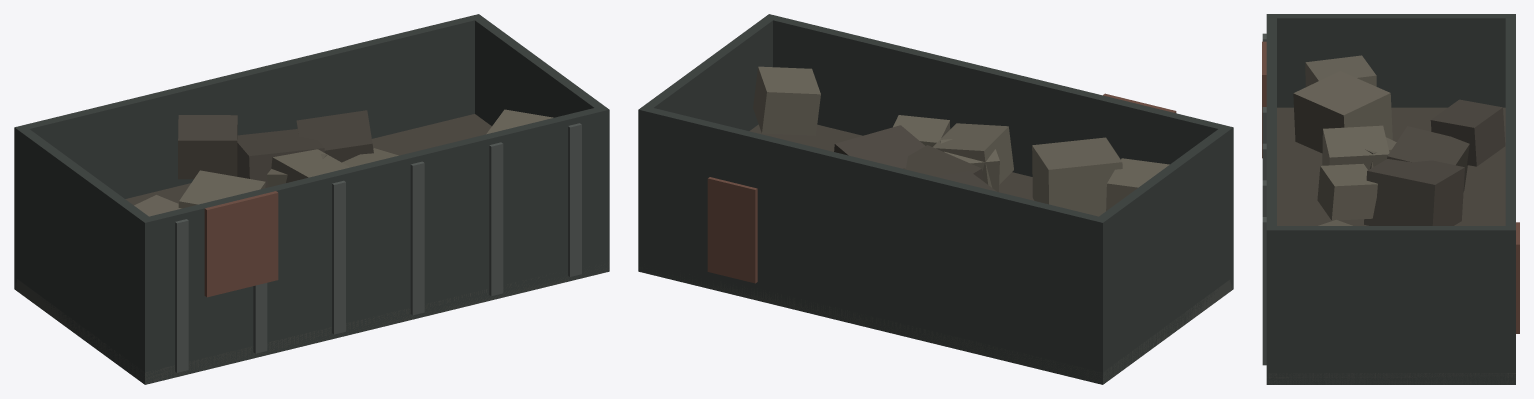
File: ancient_open_container_1.obj
3 views of the same model, side by side, from view 1: azimuth 30°, elevation 25°; view 2: azimuth 150°, elevation 25°; view 3: azimuth 270°, elevation 25° (orthographic). The views are drawn at different scales.
Parts seen in each view (by area): view 1: ancient_open_container_1; view 2: ancient_open_container_1; view 3: ancient_open_container_1.
Boxes of the visible parts, left/top/right/bottom form: ancient_open_container_1: left=14, top=14, right=609, bottom=384; ancient_open_container_1: left=638, top=14, right=1233, bottom=384; ancient_open_container_1: left=1262, top=14, right=1519, bottom=384.
Size of the model in its own units: 3.9 by 1.3 by 1.97.
